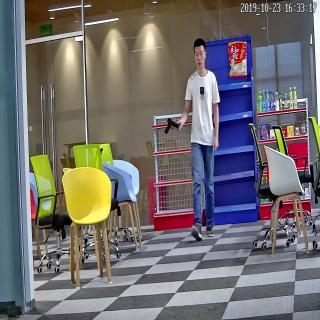gun: (163, 115, 183, 139)
